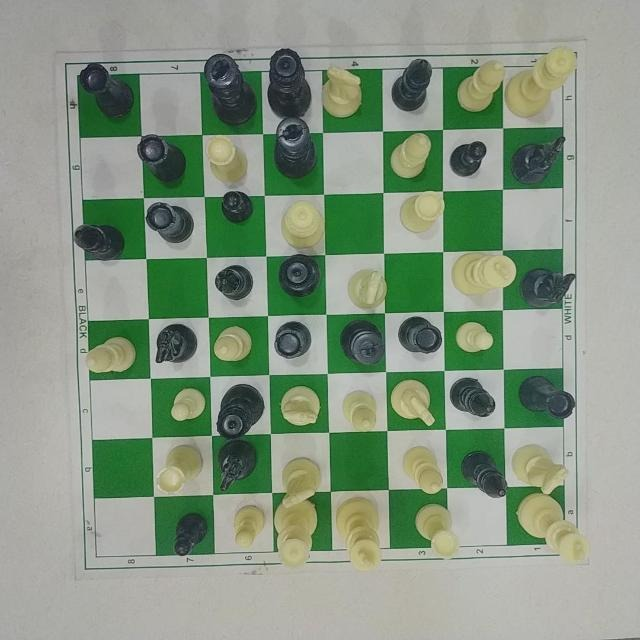black-bishop: (66, 218, 130, 269), (389, 52, 441, 114), (460, 444, 508, 505), (446, 367, 495, 425), (208, 258, 253, 304)
black-king: (198, 49, 260, 129), (274, 114, 324, 183), (341, 319, 385, 371)
black-knight: (505, 132, 569, 188), (516, 258, 577, 312), (212, 438, 261, 496), (152, 318, 198, 371)
black-pawn: (172, 512, 212, 564), (448, 135, 492, 179), (212, 190, 259, 230)
black-queen: (264, 43, 313, 123), (213, 380, 265, 442), (276, 252, 326, 302)
black-rook: (74, 55, 138, 120), (517, 369, 578, 422), (136, 134, 188, 186), (143, 201, 195, 246), (395, 310, 447, 354), (270, 319, 315, 361)
white-bishop: (457, 53, 507, 114), (84, 328, 138, 380), (402, 441, 448, 497), (389, 131, 439, 181), (212, 321, 258, 369), (338, 385, 381, 434)
white-king: (515, 494, 590, 572), (333, 491, 384, 576), (448, 248, 519, 300)
white-knight: (510, 440, 571, 497), (318, 64, 367, 124), (276, 453, 321, 509), (391, 375, 436, 427), (280, 380, 324, 432), (347, 262, 391, 312)
white-pawn: (229, 501, 265, 553), (168, 382, 207, 427), (453, 322, 497, 358)
white-queen: (502, 41, 580, 122), (272, 497, 320, 569), (277, 195, 329, 253)
white-rook: (411, 500, 461, 561), (198, 134, 252, 186), (156, 438, 206, 494), (396, 188, 448, 236)
